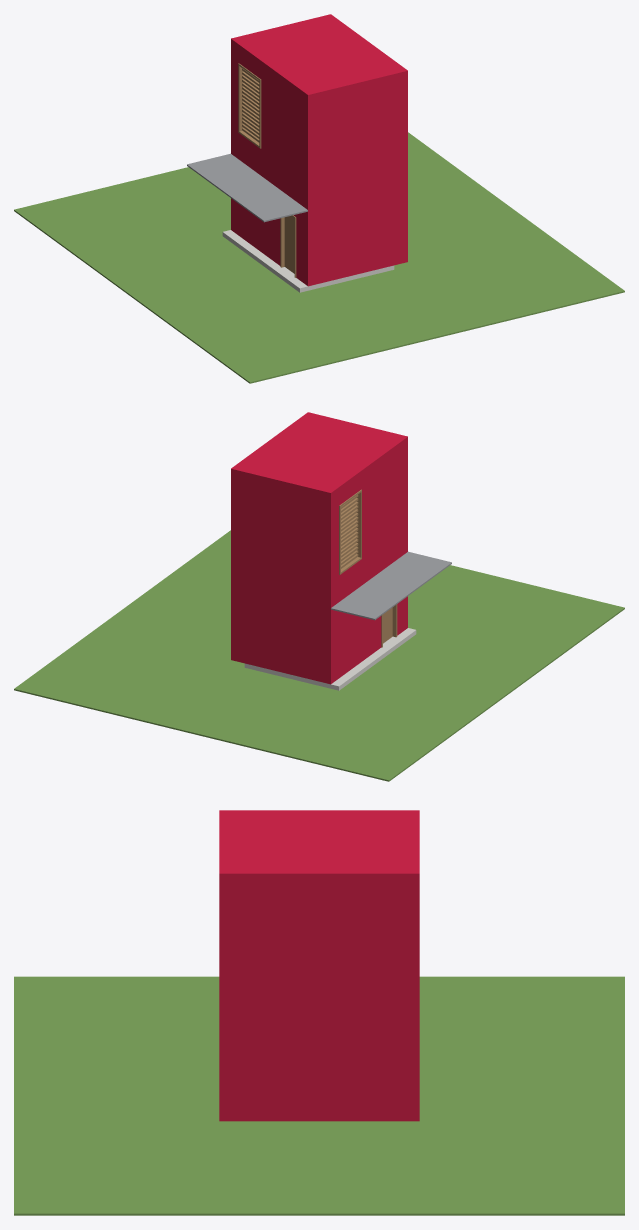
The model's file is cocina.glb.
The picture shows the model from 3 angles, top to bottom: view 1: azimuth 30°, elevation 25°; view 2: azimuth 150°, elevation 25°; view 3: azimuth 270°, elevation 25°; orthographic projection. The views are drawn at different scales.
Parts seen in each view (by area): view 1: Cocina; view 2: Cocina; view 3: Cocina.
Part boxes in pixels (x1=…): Cocina: x1=14, y1=14, x2=624, y2=383; Cocina: x1=14, y1=412, x2=624, y2=781; Cocina: x1=14, y1=810, x2=624, y2=1215.
Size of the model in its own units: 13.64 by 6.85 by 14.87.
